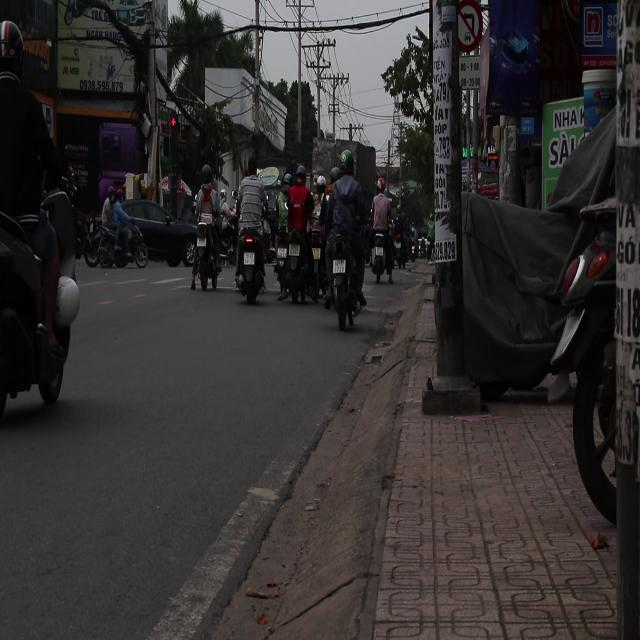car: (114, 199, 200, 265)
motorbike: (0, 194, 71, 412), (85, 208, 151, 269), (232, 213, 271, 302), (330, 230, 362, 332), (286, 224, 304, 302)
